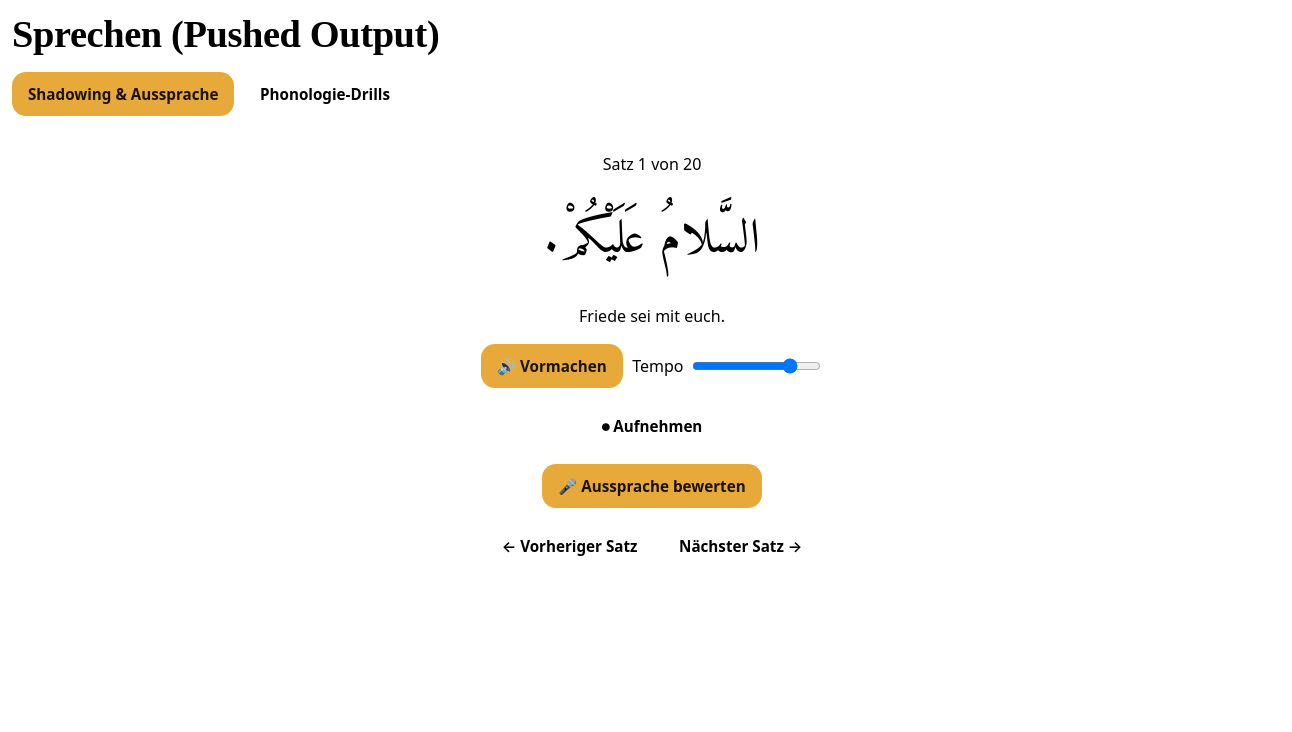
Test case: Speaking (integration, iPhone) › shows instructions when microphone access is denied
Click the button "⏺ Aufnehmen".
click(652, 426)  # box [586, 404, 718, 448]
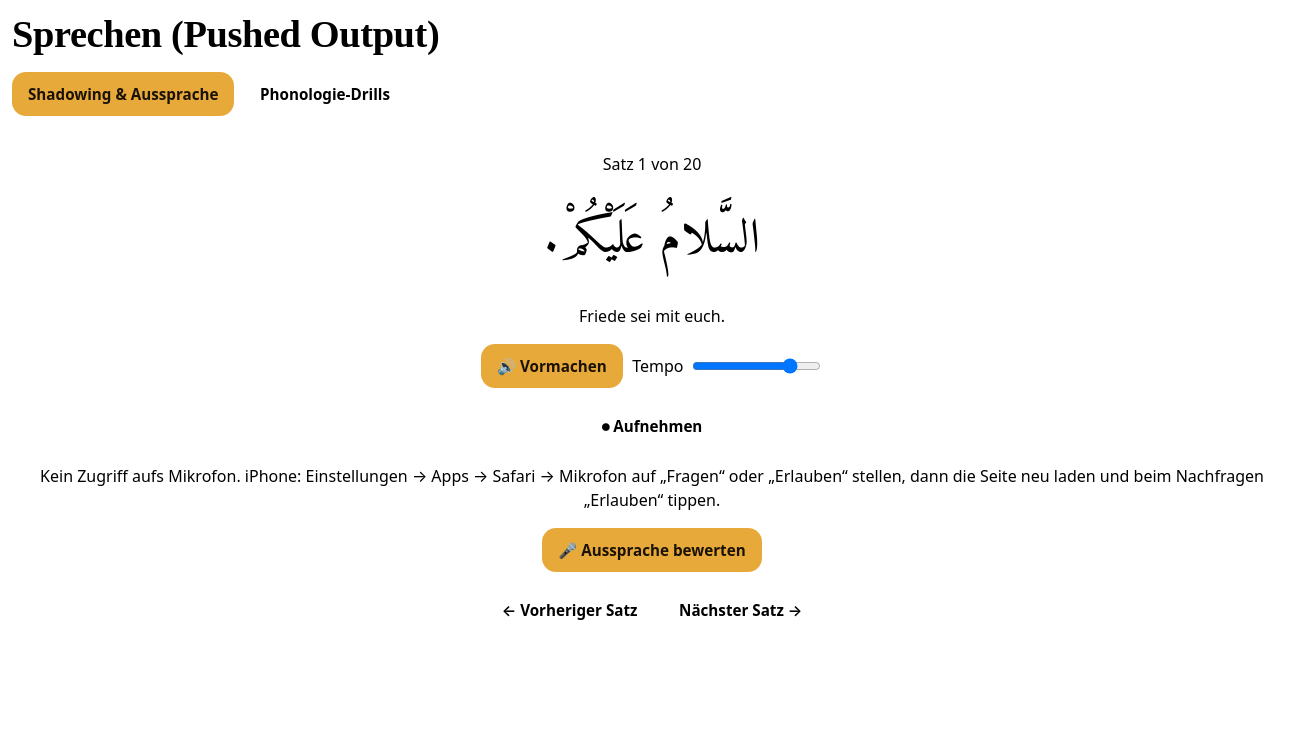
expect the message shows "Safari → Mikrofon": met, box [40, 465, 1264, 511]
